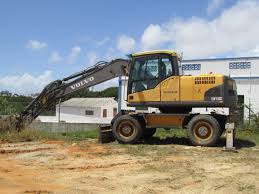excavator: (15, 52, 240, 146)
